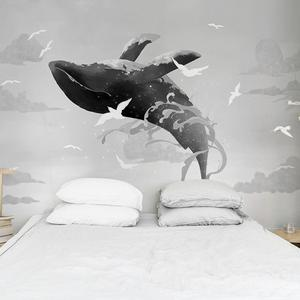fish: (44, 39, 227, 179)
